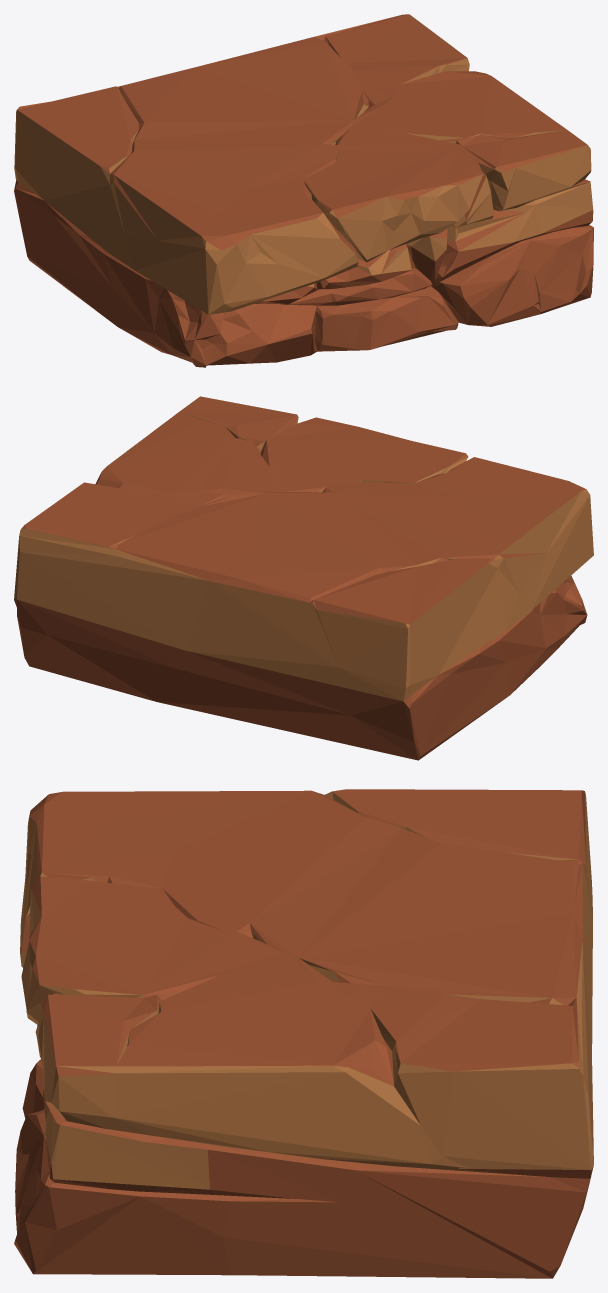
Rendered from ledge-1.glb.
3 renders of one model, top to bottom at view 1: azimuth 30°, elevation 25°; view 2: azimuth 150°, elevation 25°; view 3: azimuth 270°, elevation 25°, orthographic. The views are drawn at different scales.
Visible parts, largest first — view 1: output_unwrapped; view 2: output_unwrapped; view 3: output_unwrapped.
Boxes of the visible parts, <box> form: output_unwrapped: <box>14,14,593,367</box>; output_unwrapped: <box>14,396,593,760</box>; output_unwrapped: <box>14,789,593,1278</box>.
Size of the model in its own units: 3.5 by 1.25 by 3.02.
